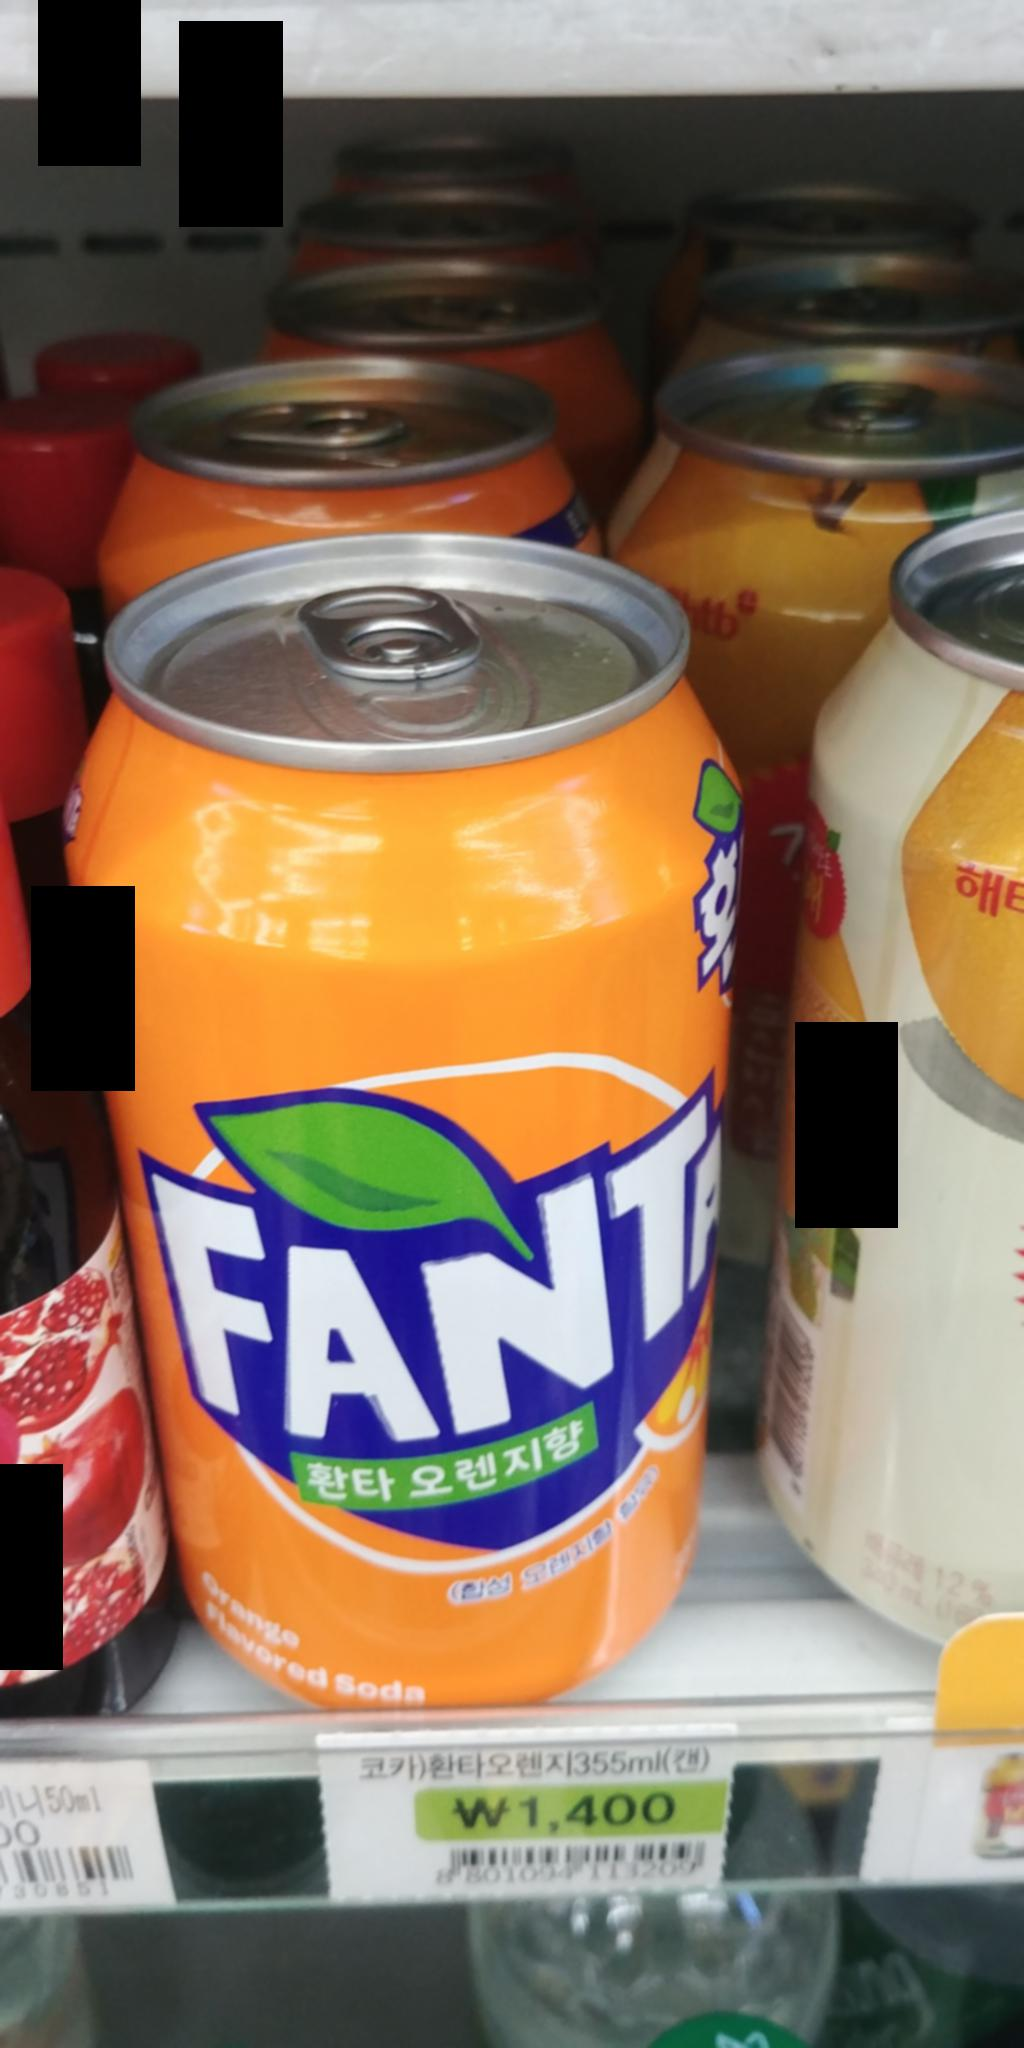fanta_orange: (55, 529, 763, 1701)
